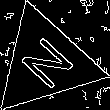N_SE: (12, 30, 78, 95)
